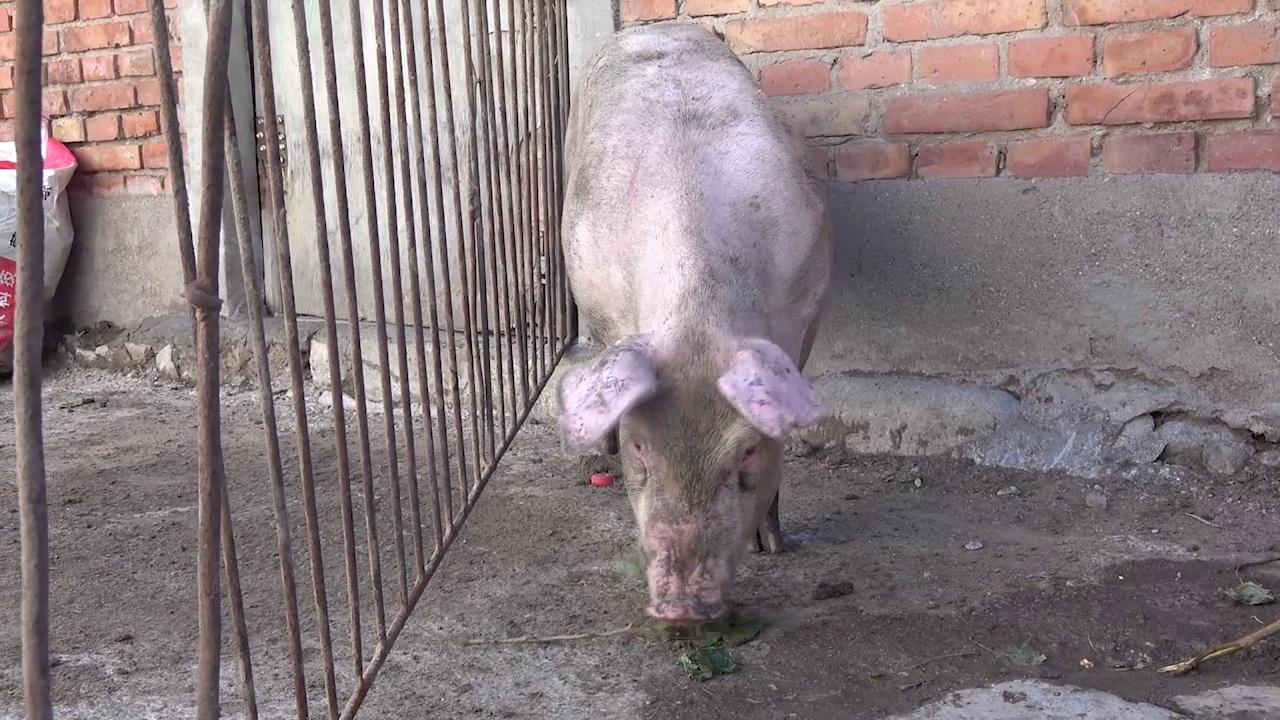Face: (552, 332, 836, 638)
